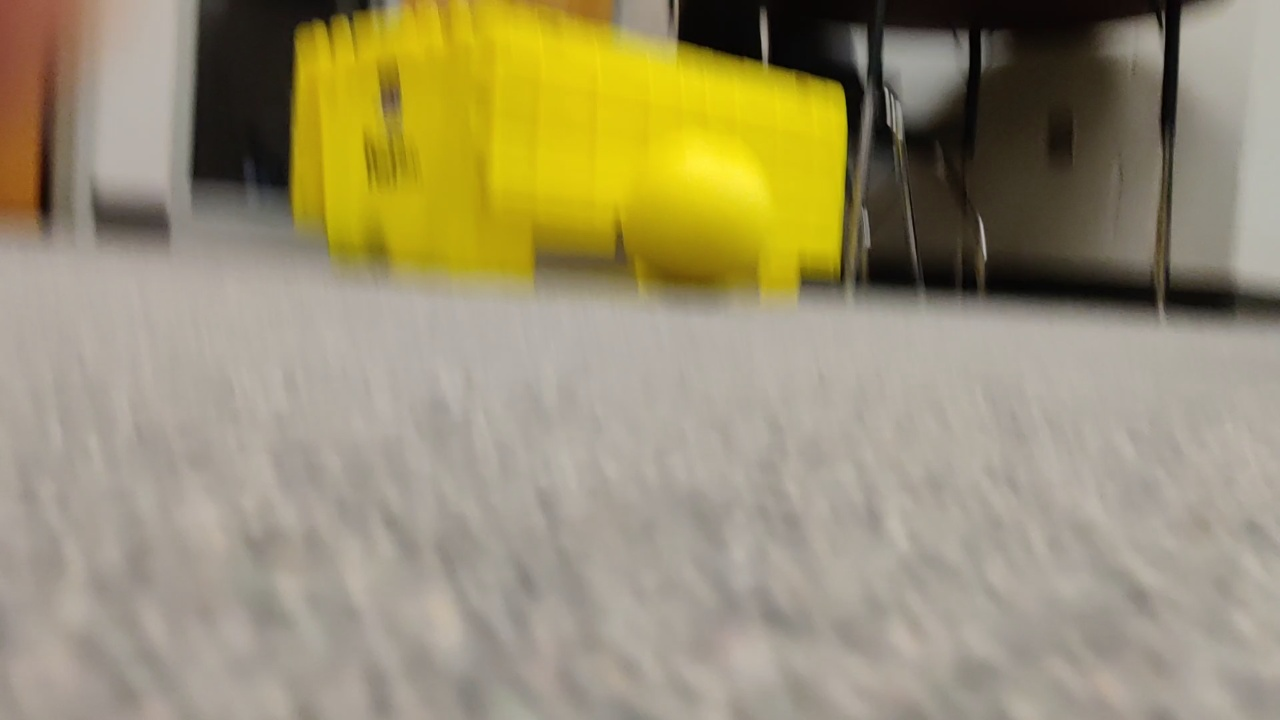Ball: (626, 145, 773, 281)
